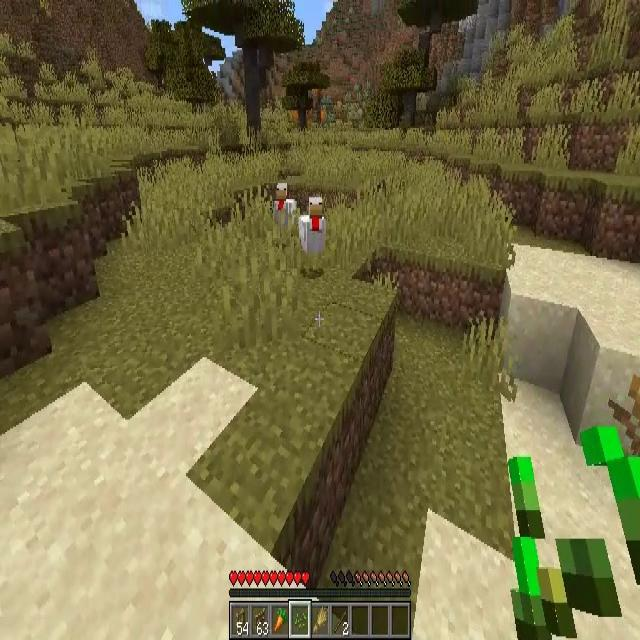duck: (301, 195, 326, 268), (273, 182, 297, 238)
